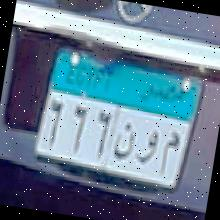6: (90, 107, 115, 159), (64, 101, 88, 154), (42, 96, 65, 148)
meem: (156, 124, 182, 182)
noon: (112, 118, 138, 161)
waw: (132, 127, 160, 172)
